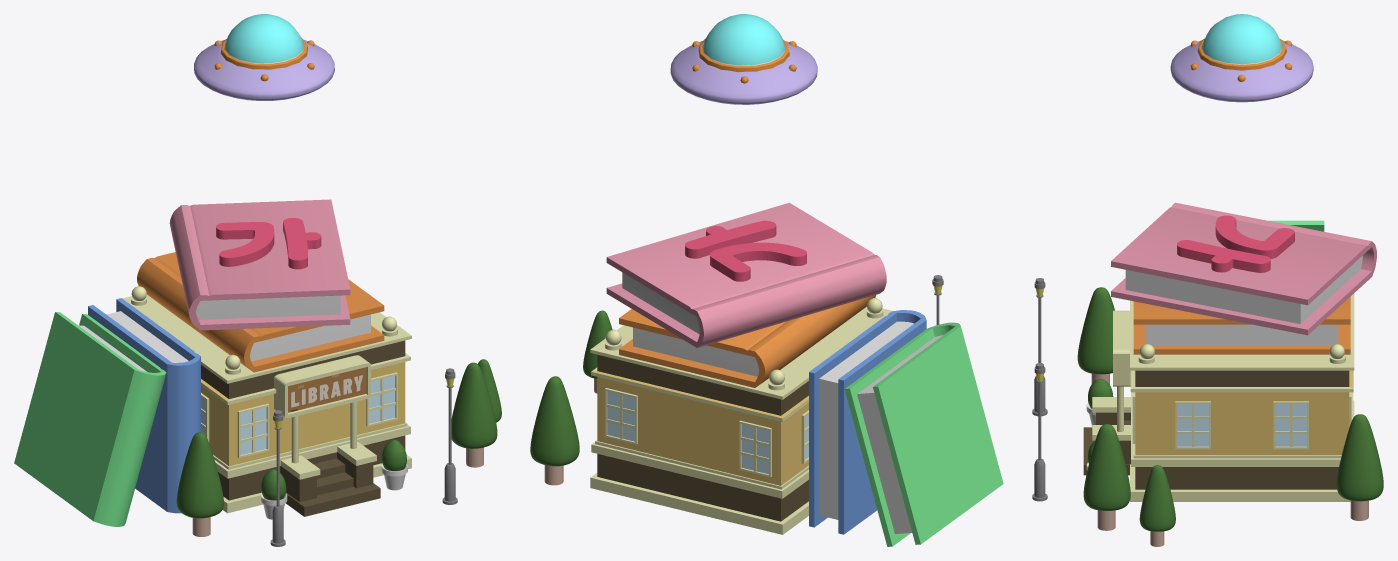
File: Library.fbx
The picture shows the model from 3 angles, left to right: view 1: azimuth 30°, elevation 25°; view 2: azimuth 150°, elevation 25°; view 3: azimuth 270°, elevation 25°; orthographic projection. The views are drawn at different scales.
Visible parts, largest first — view 1: Cube.012, Cube.005, Cube, Cube.011, Cube.004, Cylinder.008, Cube.001, Sphere.001, Cube.006, Text, Cube.008, Cube.029 (+8 smaller); view 2: Cube, Cube.012, Cube.005, Cube.011, Cube.004, Cylinder.008, Text, Sphere.001, Cube.006, Cube.009, Cube.007, Sphere; view 3: Cube, Cube.005, Cube.004, Cylinder.008, Cube.006, Sphere.001, Text, Cube.009, Cube.029, Cube.008, Cube.007, Cylinder.006 (+3 smaller).
Boxes of the visible parts, bbox=[...] form: Cube.012: bbox=[14, 312, 166, 526]; Cube.005: bbox=[169, 199, 350, 330]; Cube: bbox=[122, 294, 411, 513]; Cube.011: bbox=[88, 298, 200, 513]; Cube.004: bbox=[137, 252, 384, 372]; Cylinder.008: bbox=[194, 40, 334, 100]; Cube.001: bbox=[274, 355, 370, 418]; Sphere.001: bbox=[220, 14, 307, 69]; Cube.006: bbox=[201, 372, 397, 457]; Text: bbox=[216, 218, 321, 269]; Cube.008: bbox=[176, 432, 223, 518]; Cube.029: bbox=[451, 362, 497, 448]; Cube: bbox=[590, 306, 893, 534]; Cube.012: bbox=[844, 322, 1003, 546]; Cube.005: bbox=[606, 202, 886, 347]; Cube.011: bbox=[809, 310, 926, 534]; Cube.004: bbox=[619, 295, 876, 387]; Cylinder.008: bbox=[670, 41, 817, 104]; Text: bbox=[685, 220, 806, 281]; Sphere.001: bbox=[698, 14, 789, 72]; Cube.006: bbox=[604, 388, 808, 477]; Cube.009: bbox=[530, 376, 579, 466]; Cube.007: bbox=[583, 310, 612, 378]; Sphere: bbox=[605, 298, 882, 384]; Cube: bbox=[1130, 293, 1354, 501]; Cube.005: bbox=[1111, 202, 1376, 335]; Cube.004: bbox=[1133, 297, 1350, 354]; Cylinder.008: bbox=[1170, 40, 1313, 102]; Cube.006: bbox=[1132, 392, 1351, 449]; Sphere.001: bbox=[1197, 14, 1286, 70]; Text: bbox=[1177, 215, 1294, 272]; Cube.009: bbox=[1336, 414, 1383, 501]; Cube.029: bbox=[1083, 424, 1130, 510]; Cube.008: bbox=[1077, 287, 1114, 374]; Cube.007: bbox=[1139, 465, 1175, 531]; Cylinder.006: bbox=[1032, 278, 1047, 501].
Size of what is drawn, in the model's own units: 2114 by 2176 by 1576.
